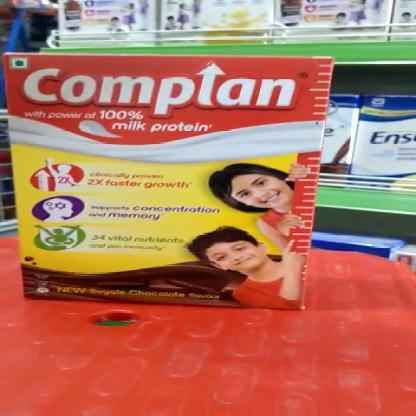Complan Royal Chocolate: (5, 53, 331, 310)
